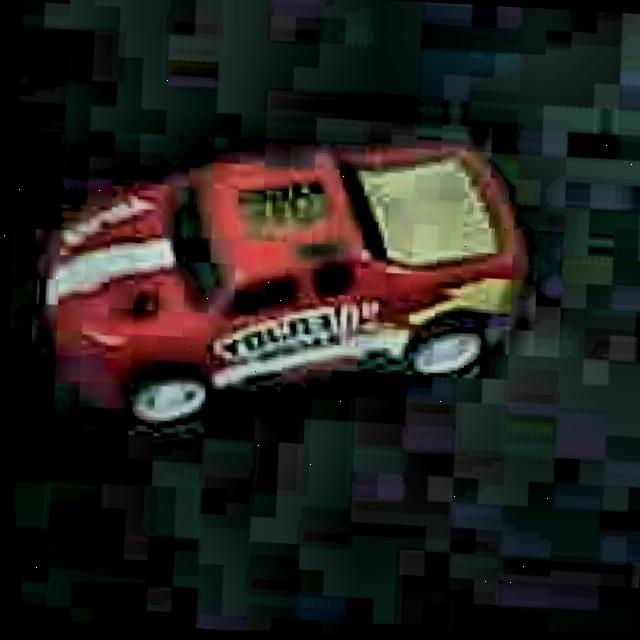car: (21, 102, 540, 462)
